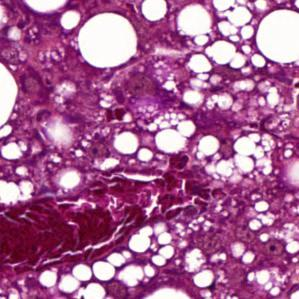steatosis: (76, 12, 142, 68)
